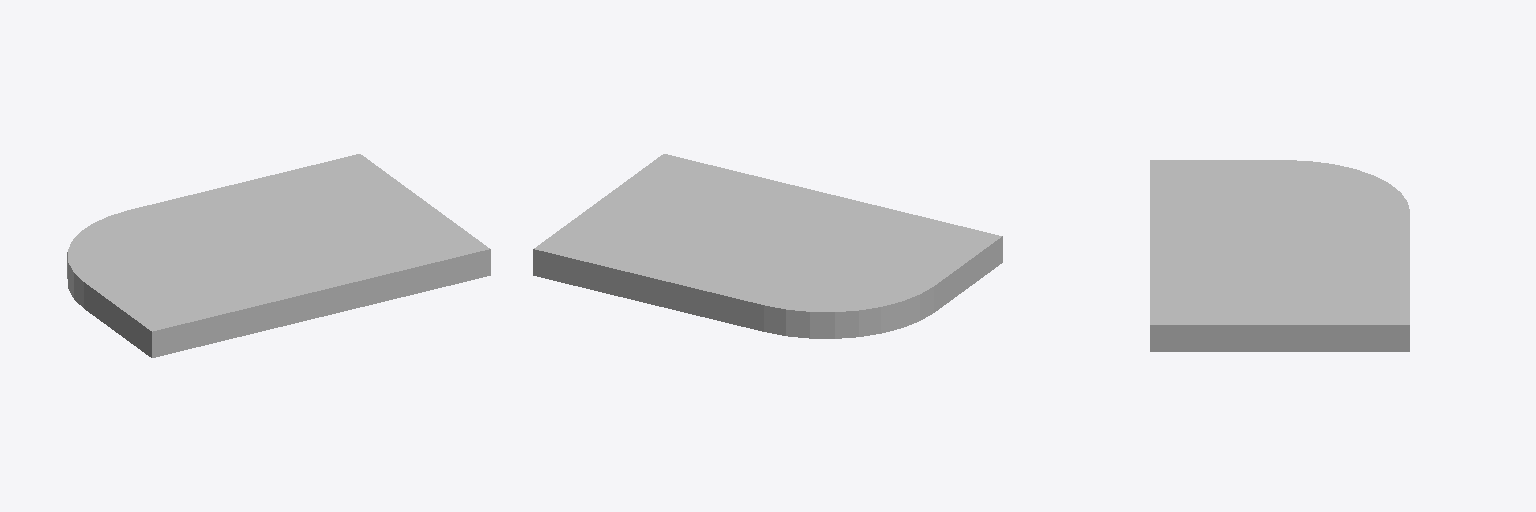
Rendered from CurbCorner2.obj.
3 renders of one model, left to right at view 1: azimuth 30°, elevation 25°; view 2: azimuth 150°, elevation 25°; view 3: azimuth 270°, elevation 25°, orthographic.
Visible parts, largest first — view 1: CurbCorner2; view 2: CurbCorner2; view 3: CurbCorner2.
Boxes of the visible parts, x1,y1,x2,y2 form: CurbCorner2: [67, 154, 490, 357]; CurbCorner2: [533, 154, 1002, 338]; CurbCorner2: [1150, 160, 1409, 351].
Bounding box in the file's own units: 1.5 × 0.113 × 1.